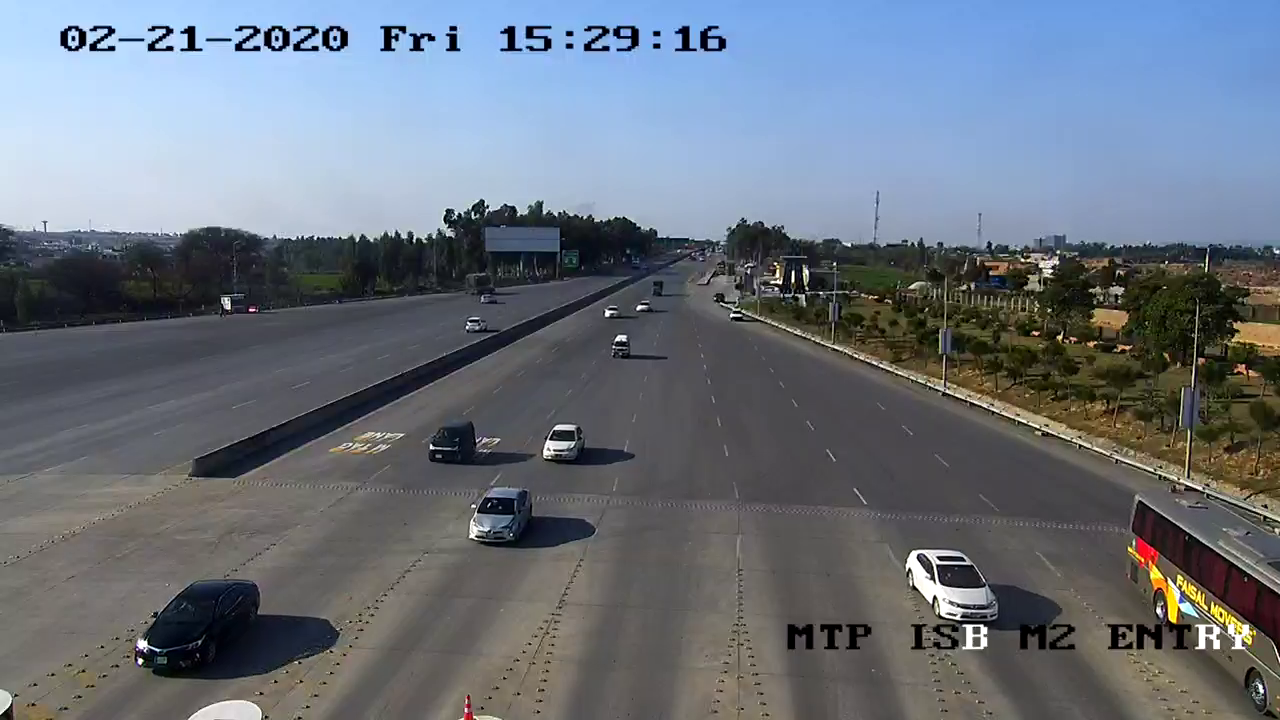f1: (123, 564, 275, 680), (892, 541, 1020, 629), (463, 480, 539, 552)
